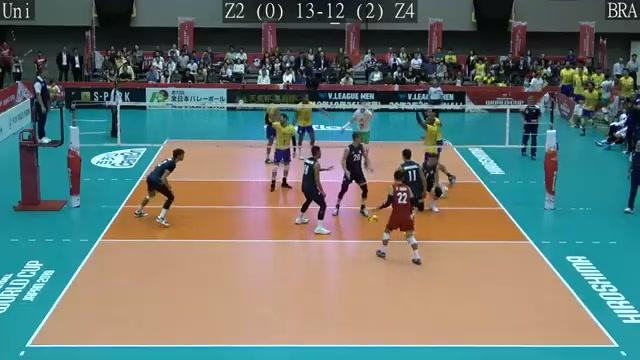ball: (266, 102, 277, 114)
